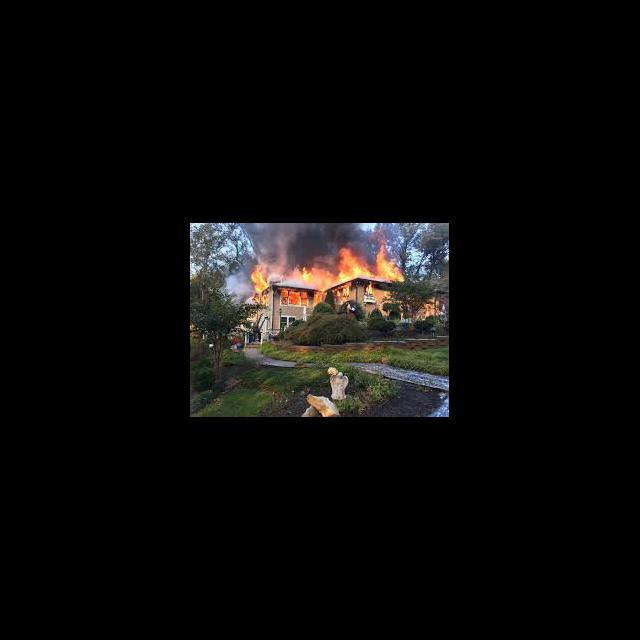Fire: (336, 248, 406, 284), (250, 270, 270, 294), (280, 291, 310, 306), (330, 284, 351, 304), (298, 266, 312, 284), (312, 292, 326, 306), (364, 282, 374, 300)
Smoke: (247, 223, 331, 262), (332, 223, 386, 242), (224, 273, 249, 299)
